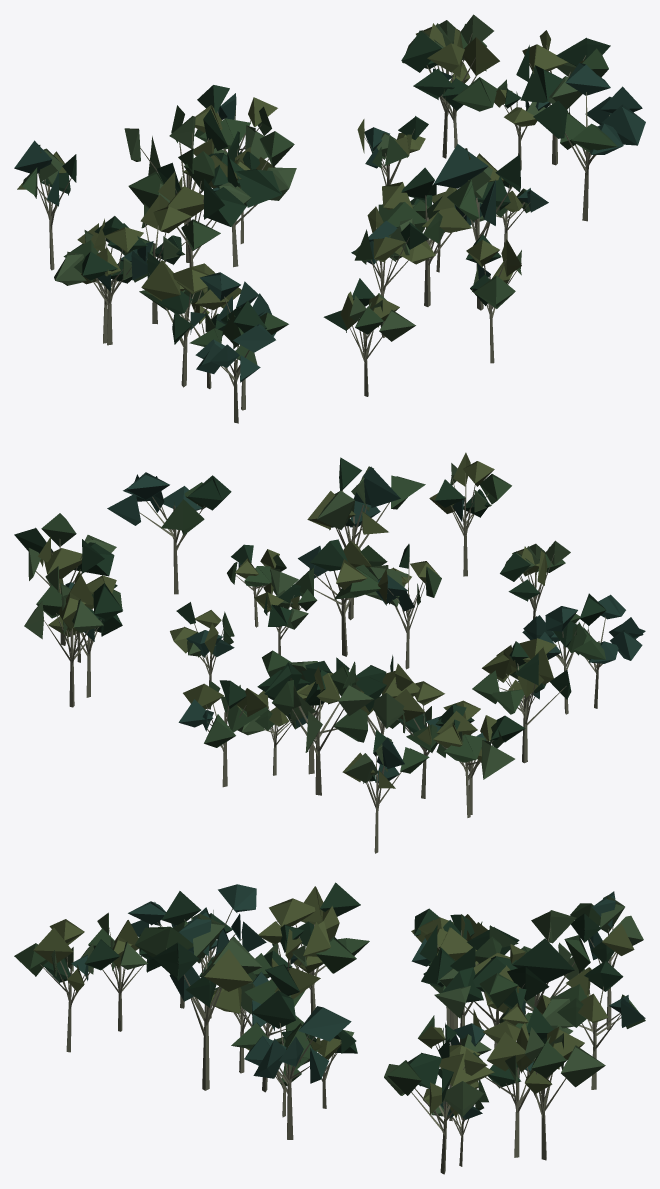
The model's file is forest_17_26.dae.
3 views of the same model, one above another, from view 1: azimuth 30°, elevation 25°; view 2: azimuth 150°, elevation 25°; view 3: azimuth 270°, elevation 25° (orthographic). The views are drawn at different scales.
Parts seen in each view (by area): view 1: Node; view 2: Node; view 3: Node.
Boxes of the visible parts, box(x1,y1,x2,y2) form: Node: box(14, 14, 645, 423); Node: box(14, 452, 645, 853); Node: box(14, 882, 645, 1174).
Size of the model in its own units: 11.48 by 11.37 by 4.66.
